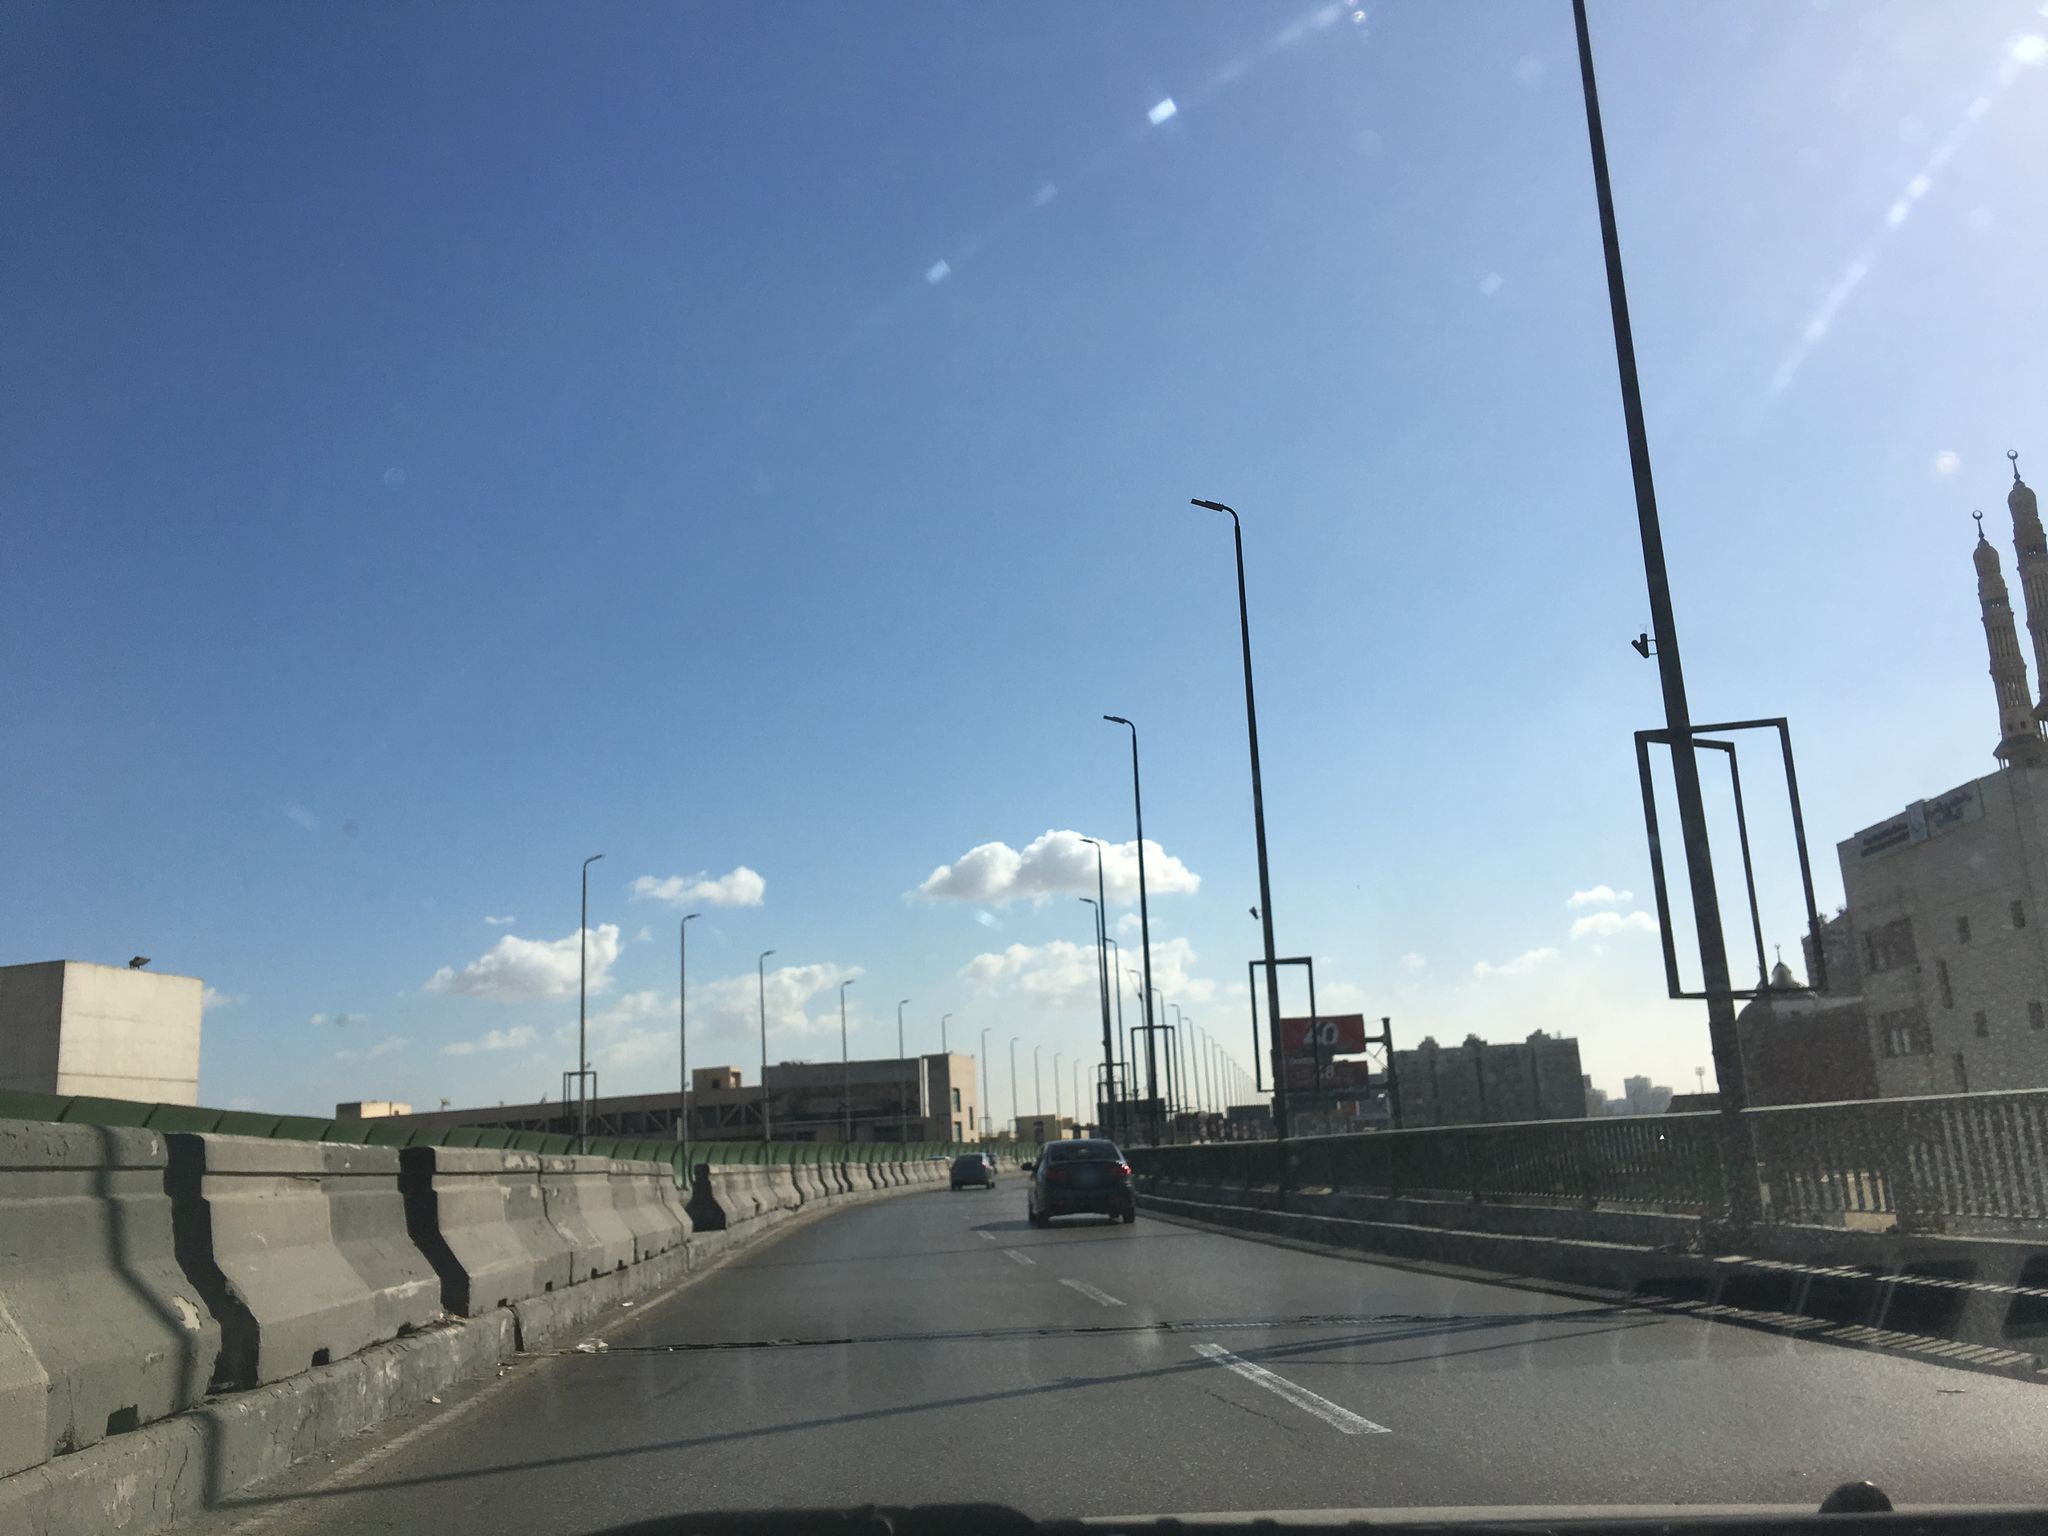car: (1021, 1139, 1137, 1225), (948, 1152, 997, 1191)
